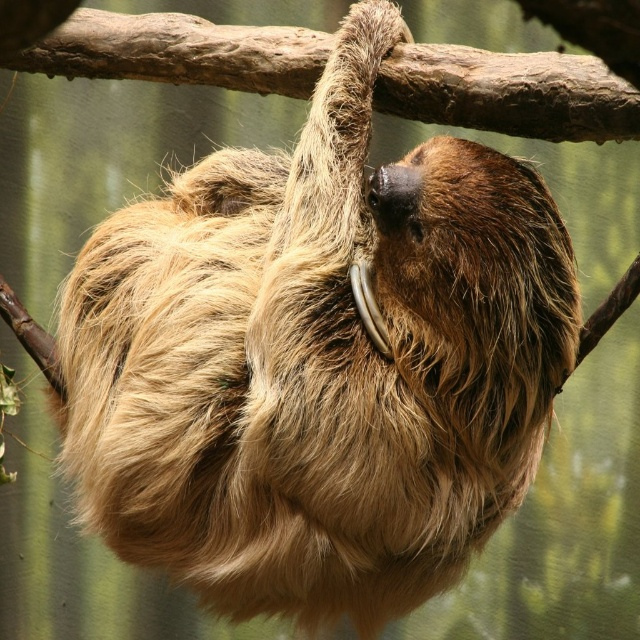Monkey: (8, 1, 585, 640)
